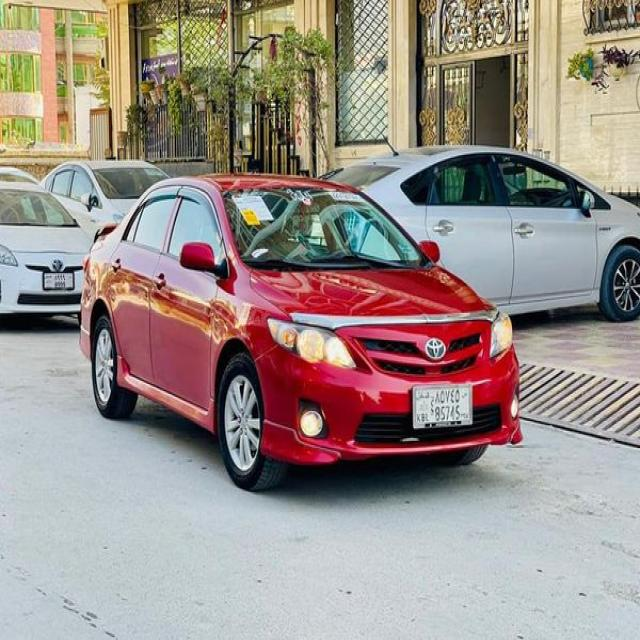Plate: (414, 386, 474, 429)
